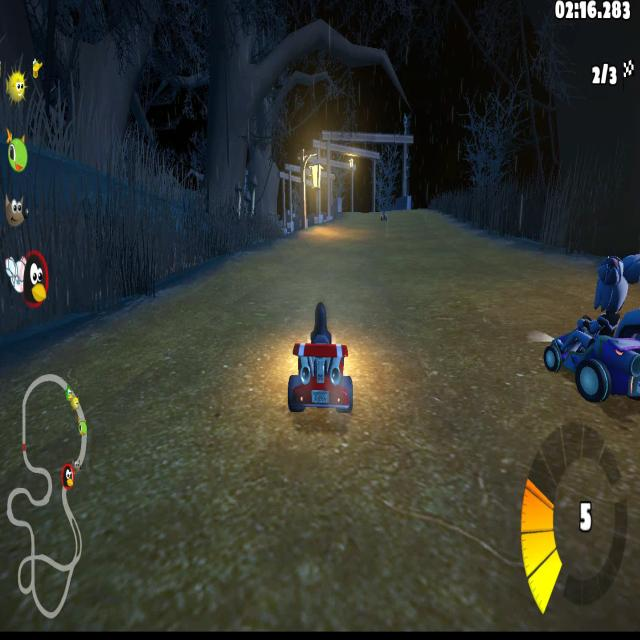player_kart: (289, 300, 358, 428)
track: (0, 371, 286, 640), (286, 427, 637, 640), (360, 301, 547, 430), (379, 228, 545, 298), (31, 324, 287, 366), (136, 283, 288, 319), (337, 201, 377, 303), (304, 227, 337, 296), (219, 258, 307, 282), (398, 209, 454, 227), (278, 240, 304, 256), (290, 282, 304, 296)
